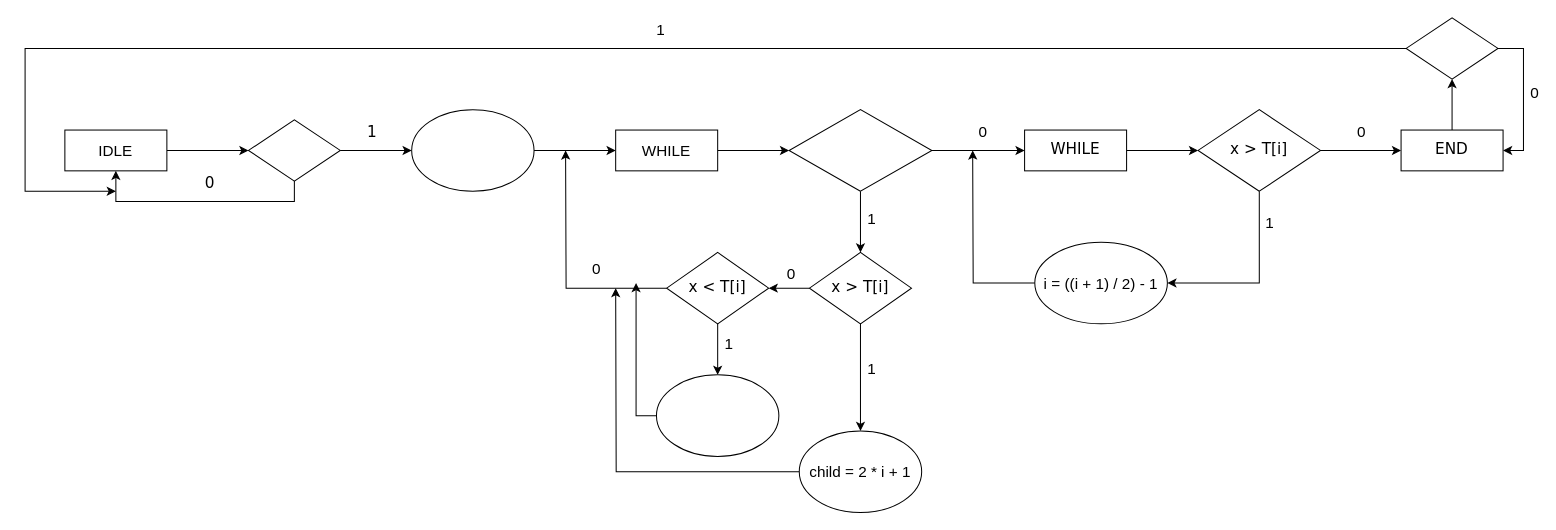
This 1556x530 diagram has some shape labels left out. The shapes that lost their labels are listed below. From the top down, each one's centre as x and y in pixels, then its label:
(1451,48): Done
(293,150): Start
(472,150): i = 0 child = 0
(860,150): child < len(T)
(717,415): child = 2 * i + 2
